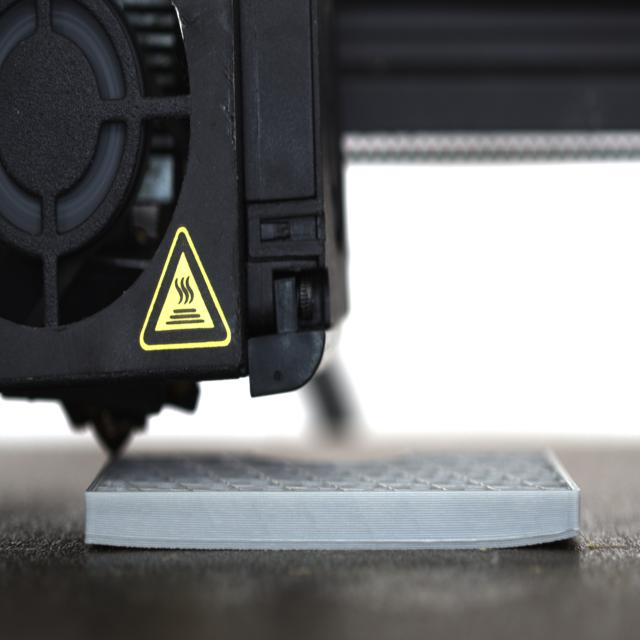Warping: (528, 522, 584, 556)
